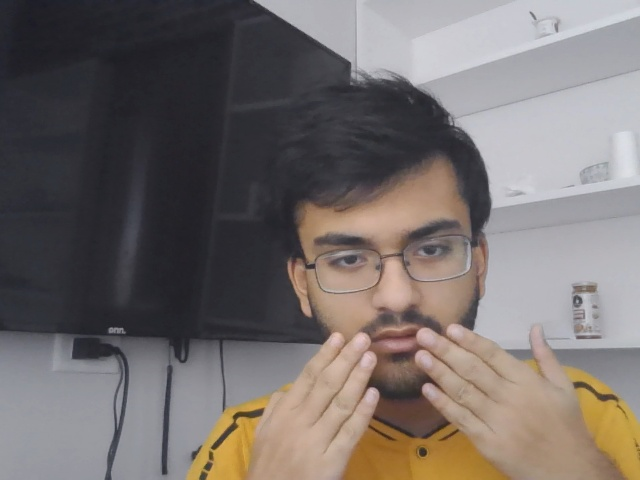ThankYou: (249, 322, 622, 480)
